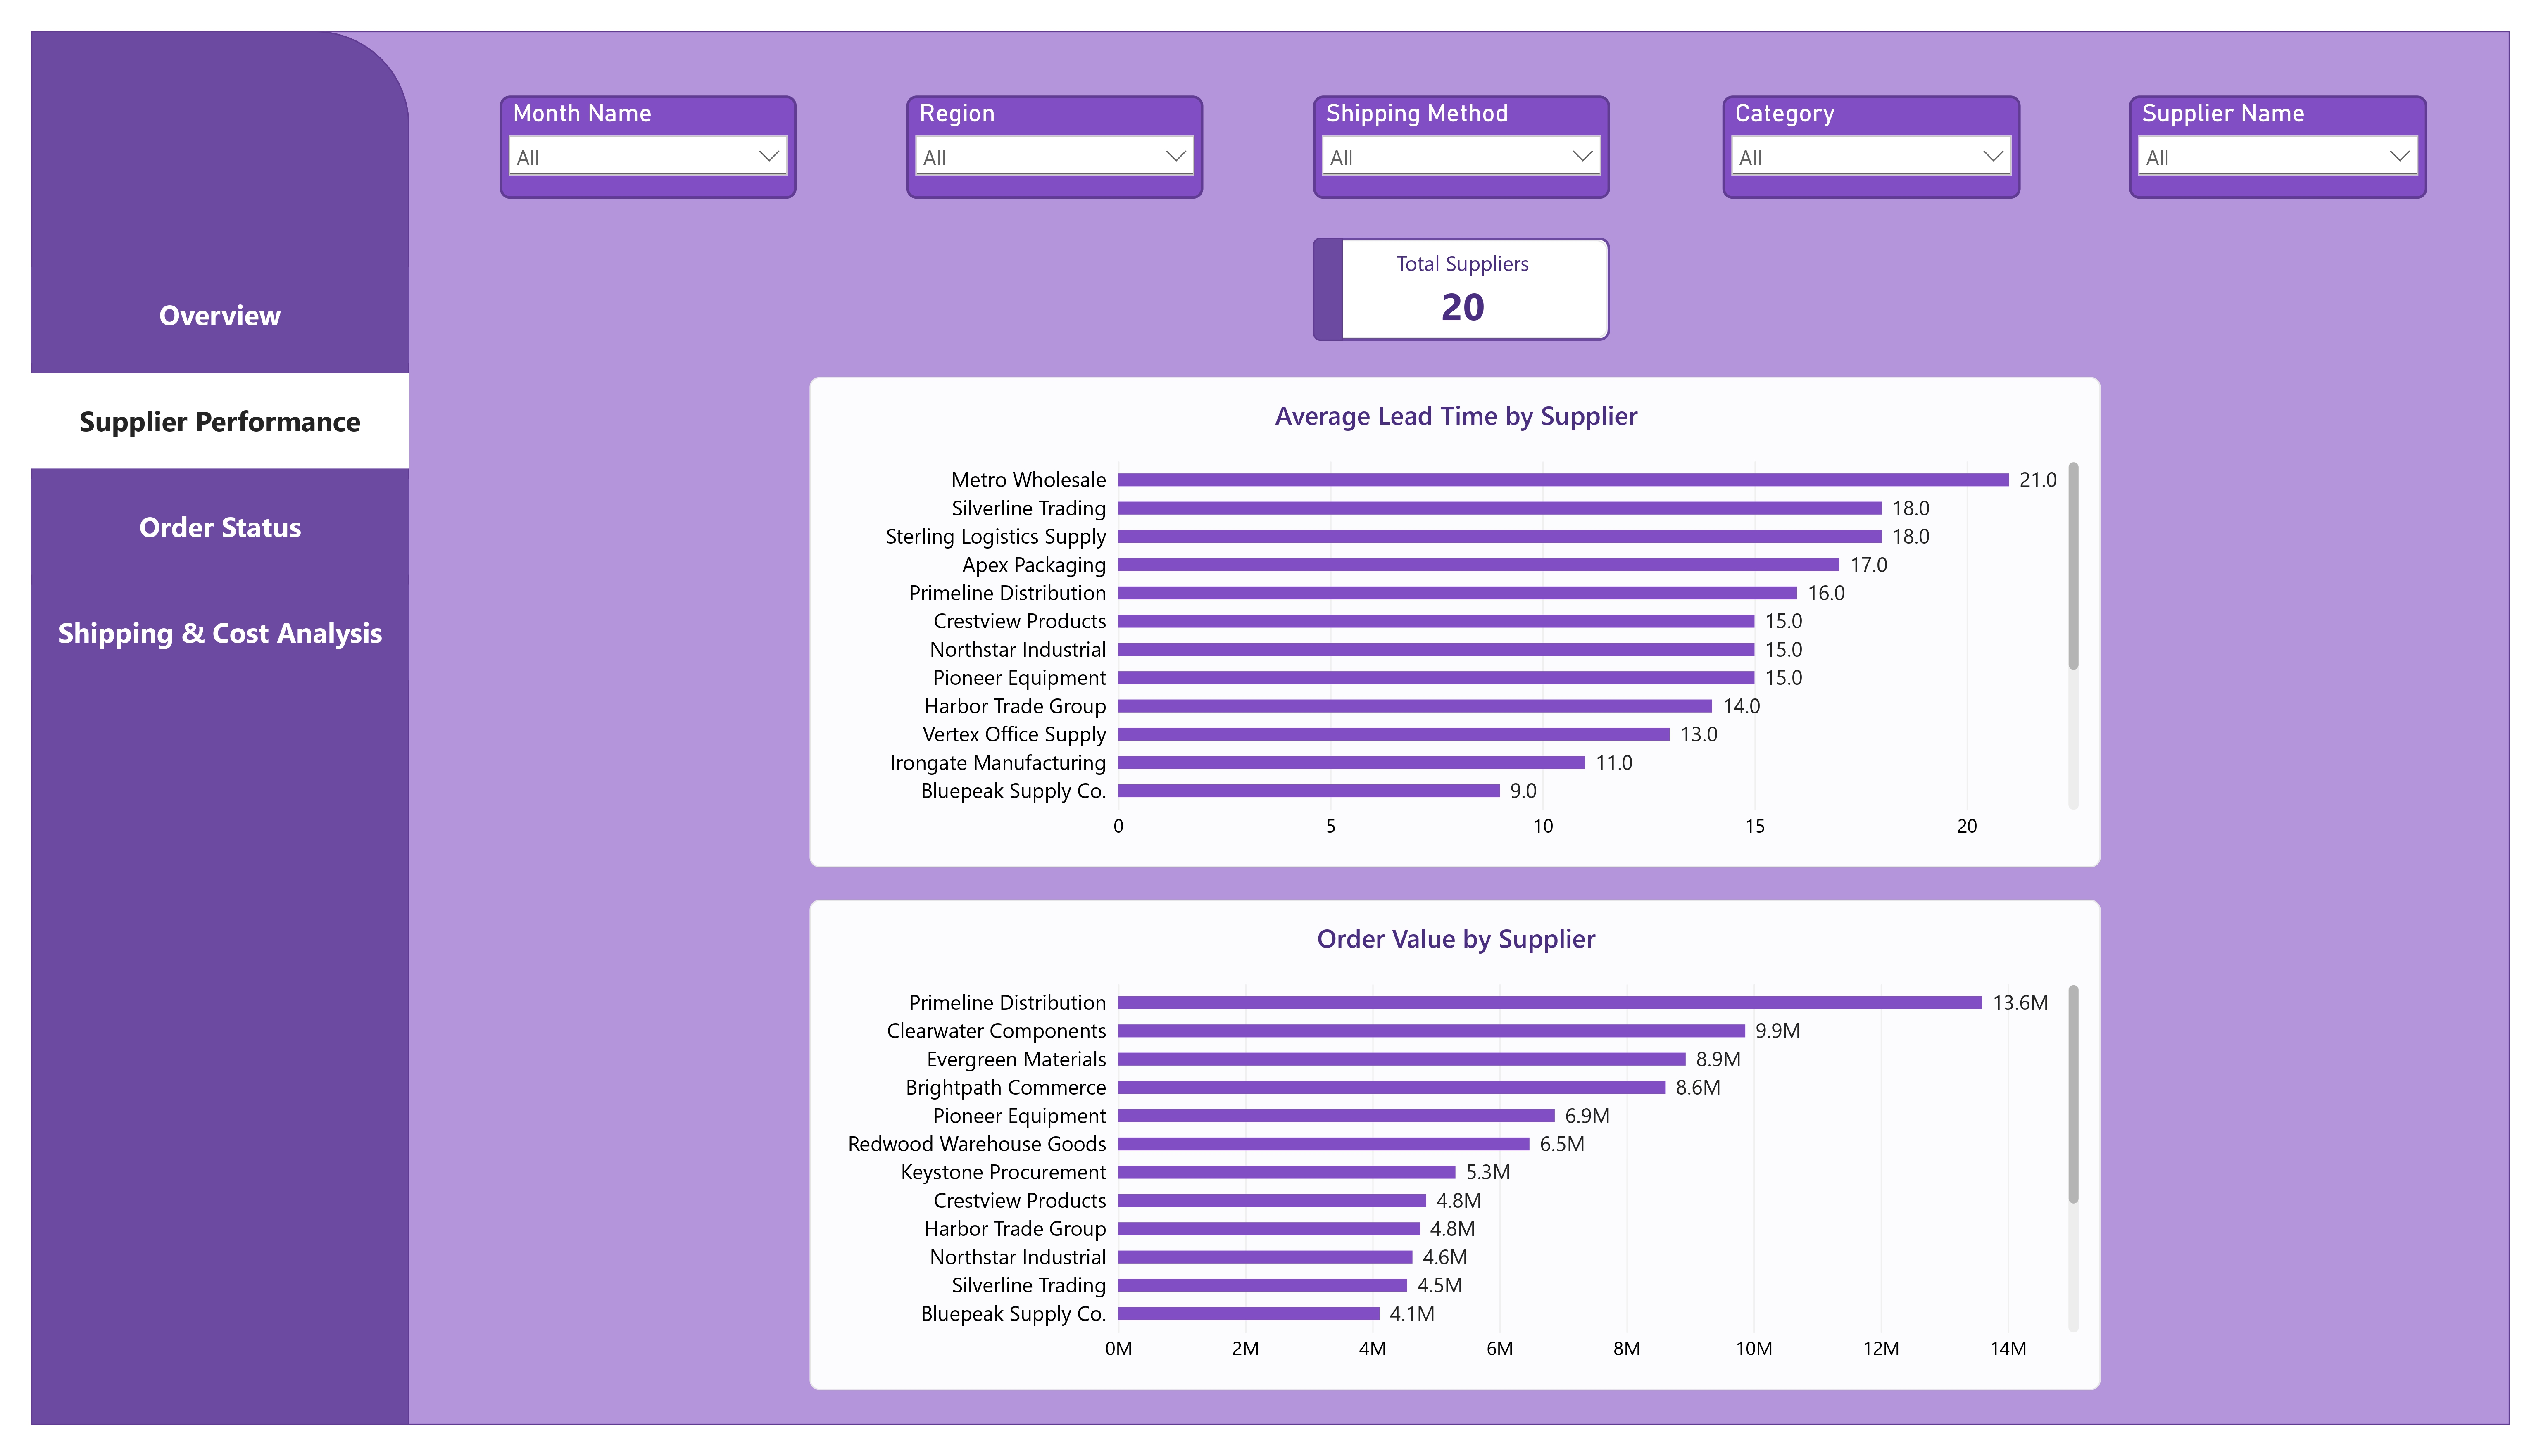

Layout of this report page (visuals, bound fields, positions):
{"tool":"powerbi","page":{"name":"Supplier Performance","canvas":[1920,1080],"ordinal":1},"visuals":[{"type":"shape","box":[0,0,1920,1080],"z":0},{"type":"clusteredBarChart","title":"Average Lead Time by Supplier","fields":{"Category":["Suppliers.Supplier Name"],"Y":["Orders.Average Supplier Lead Time"]},"box":[602.5,267.5,1000,380],"z":1000},{"type":"shape","box":[0,0,292.5,1080],"z":2000},{"type":"clusteredBarChart","title":"Order Value by Supplier","fields":{"Category":["Suppliers.Supplier Name"],"Y":["Orders.Total Order Value"]},"box":[602.5,672.5,1000,380],"z":3000},{"type":"cardVisual","fields":{"Data":["Orders.Total Suppliers"]},"box":[992.5,160.4,230,80],"z":4000,"group":"g1"},{"type":"pageNavigator","box":[0,182.5,292.5,320],"z":4000},{"type":"slicer","fields":{"Values":["Orders.Order Date.Variation.Date Hierarchy.Month"]},"box":[362.5,50.4,230,80],"z":5000},{"type":"slicer","fields":{"Values":["Orders.Destination Region"]},"box":[677.5,50.4,230,80],"z":6000},{"type":"slicer","fields":{"Values":["Orders.Shipping Method"]},"box":[992.5,50.4,230,80],"z":7000},{"type":"slicer","fields":{"Values":["Products.Category"]},"box":[1309.5,50,231.1,79.5],"z":8000},{"type":"slicer","fields":{"Values":["Suppliers.Supplier Name"]},"box":[1625.1,50,231.1,79.5],"z":9000},{"type":"group","id":"g1","title":"Group 1","box":[992.5,160,230,80],"z":10000},{"type":"shape","box":[992.5,160,22.9,80],"z":10000,"group":"g1"}]}

Visuals, with their boxes on the page's 1920x1080 design canvas (x1, y1, x2, y2). These are canvas units, not pixel positions in the 2541x1456 screenshot, which may show the page scaled, cropped or inside an application window:
shape: 0, 0, 1920, 1080
"Average Lead Time by Supplier" clusteredBarChart: 602, 268, 1602, 648
shape: 0, 0, 292, 1080
"Order Value by Supplier" clusteredBarChart: 602, 672, 1602, 1052
cardVisual - Orders.Total Suppliers: 992, 160, 1222, 240
pageNavigator: 0, 182, 292, 502
slicer - Orders.Order Date.Variation.Date Hierarchy.Month: 362, 50, 592, 130
slicer - Orders.Destination Region: 678, 50, 908, 130
slicer - Orders.Shipping Method: 992, 50, 1222, 130
slicer - Products.Category: 1310, 50, 1541, 130
slicer - Suppliers.Supplier Name: 1625, 50, 1856, 130
"Group 1" group: 992, 160, 1222, 240
shape: 992, 160, 1015, 240
